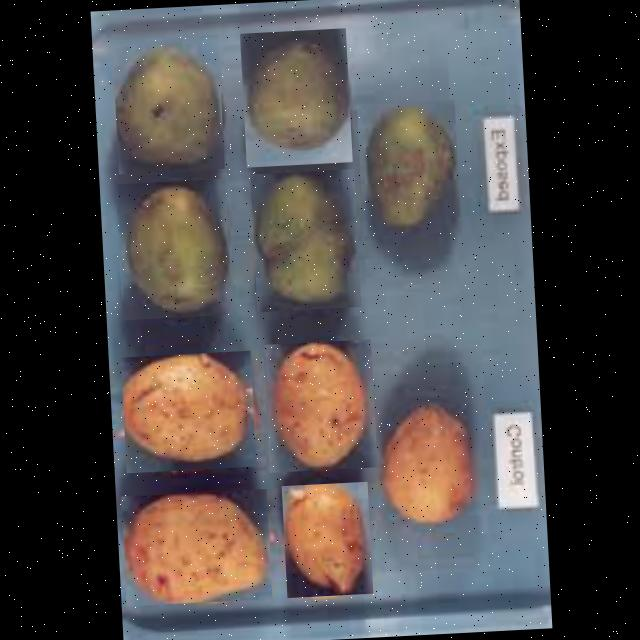Defected potato: (120, 489, 272, 606), (120, 351, 256, 474), (115, 178, 232, 320), (250, 169, 360, 312), (239, 29, 352, 168), (111, 35, 224, 174), (262, 340, 377, 472), (375, 389, 478, 532), (356, 100, 460, 236), (280, 482, 372, 598)
